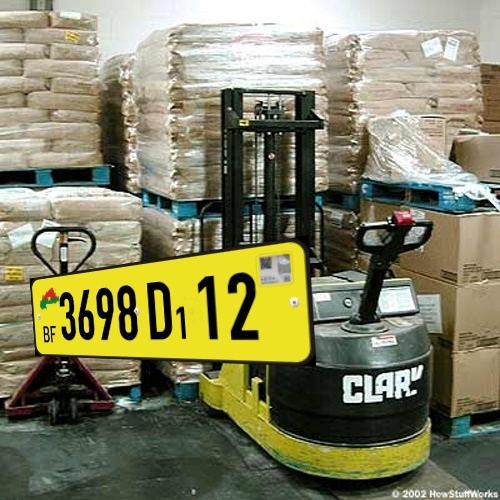plate: (20, 222, 319, 402)
